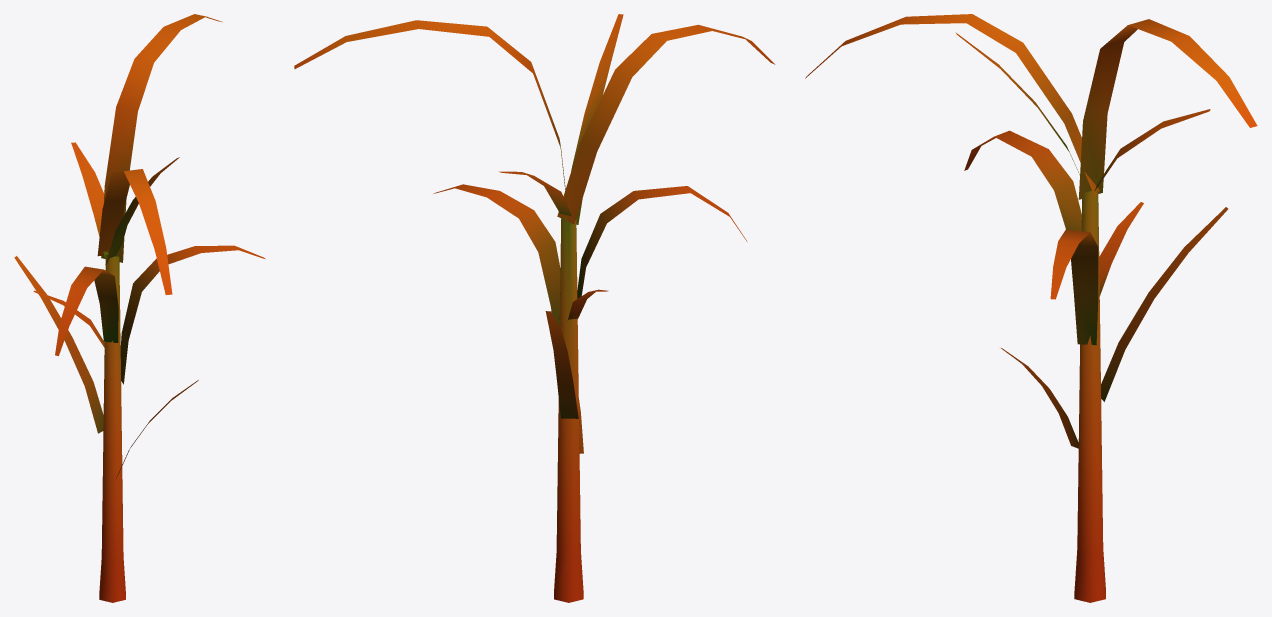
The model's file is SM_SugarCanePlants_8.fbx.
The picture shows the model from 3 angles, left to right: view 1: azimuth 30°, elevation 25°; view 2: azimuth 150°, elevation 25°; view 3: azimuth 270°, elevation 25°; orthographic projection. The views are drawn at different scales.
Visible parts, largest first — view 1: SM_SugarCanePlants_8; view 2: SM_SugarCanePlants_8; view 3: SM_SugarCanePlants_8.
Boxes of the visible parts, x1,y1,x2,y2 form: SM_SugarCanePlants_8: [14, 14, 265, 602]; SM_SugarCanePlants_8: [294, 14, 775, 602]; SM_SugarCanePlants_8: [805, 14, 1257, 602].
Size of the model in its own units: 0.7227 by 1.24 by 0.8293.
